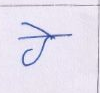e_matra: (21, 21, 53, 35)
